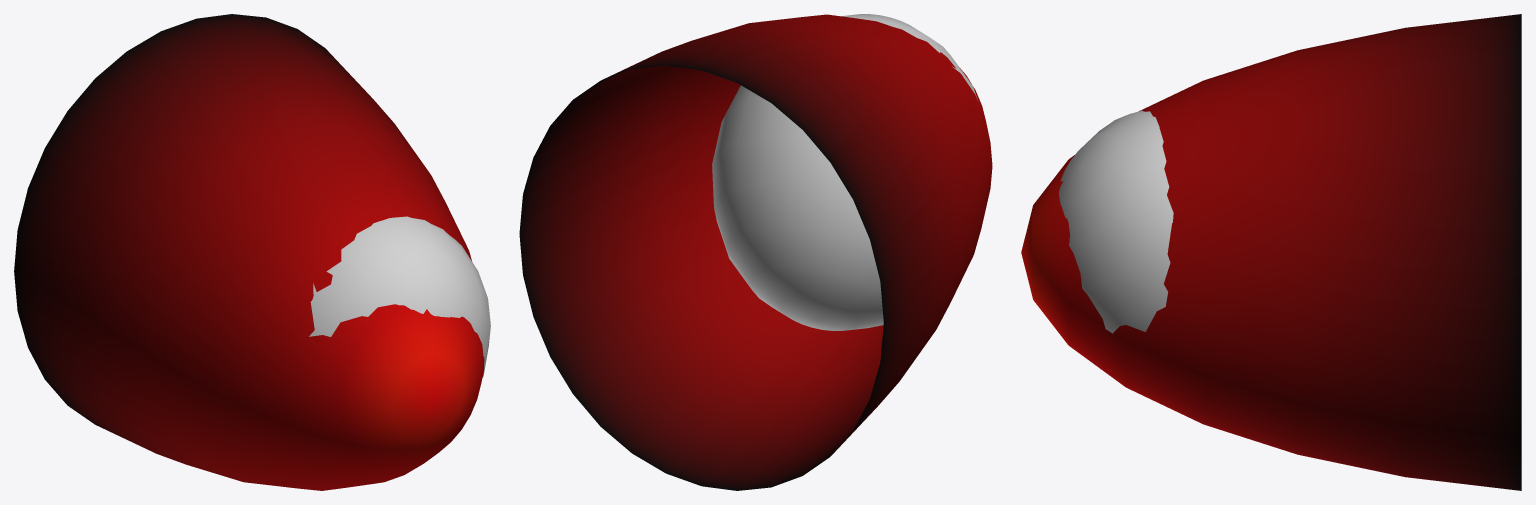
File: pref_fx_Scorbunny_spell01A_bullet_lv2.fbx
3 renders of one model, left to right at view 1: azimuth 30°, elevation 25°; view 2: azimuth 150°, elevation 25°; view 3: azimuth 270°, elevation 25°, orthographic. The views are drawn at different scales.
Visible parts, largest first — view 1: ballglow, ballwave; view 2: ballglow, ballwave; view 3: ballglow, ballwave.
Boxes of the visible parts, x1,y1,x2,y2 form: ballglow: (14, 14, 484, 490); ballwave: (309, 216, 490, 377); ballglow: (519, 14, 992, 490); ballwave: (712, 14, 977, 330); ballglow: (1021, 14, 1521, 490); ballwave: (1059, 110, 1173, 333).
Size of the model in its own units: 1.82 by 1.99 by 2.06.
